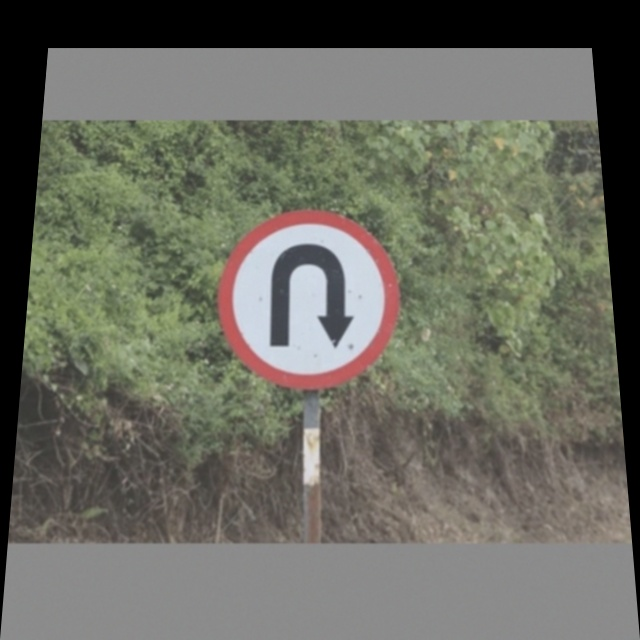U_Turn_Ahead: (216, 213, 407, 383)
